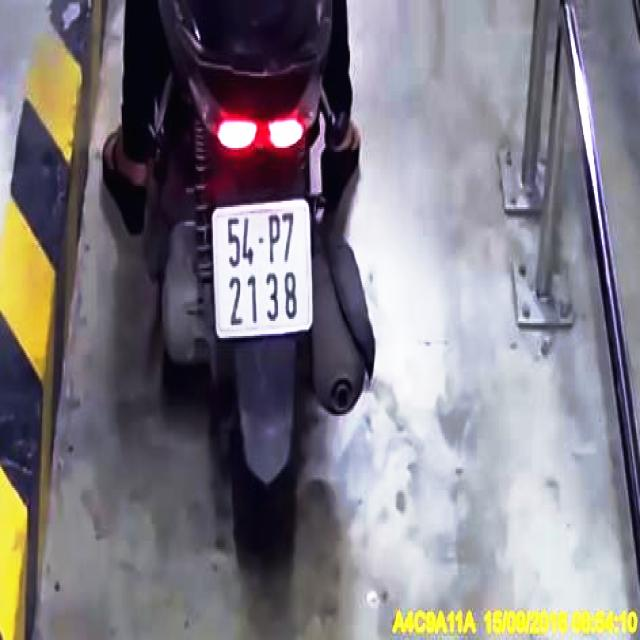license_plate: (215, 202, 312, 336)
